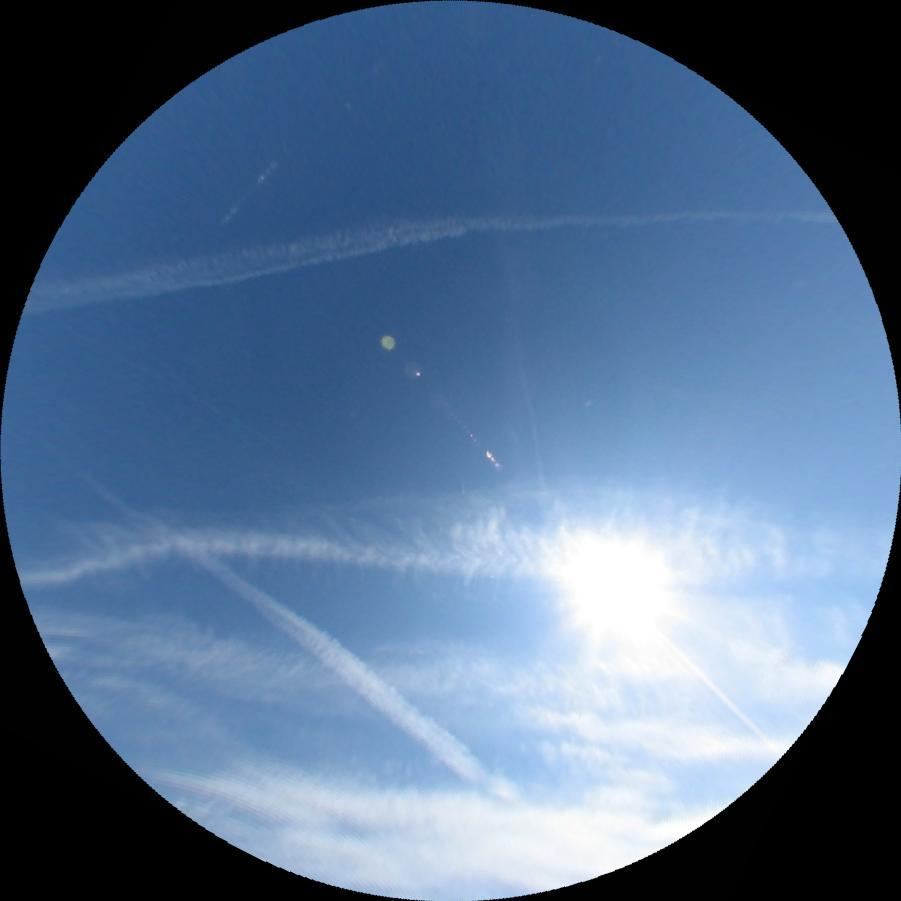contrail veryold: (84, 459, 537, 817), (16, 171, 837, 318), (19, 475, 892, 586)
contrail young: (458, 469, 464, 494)
parasite: (41, 309, 271, 440), (658, 634, 786, 755), (221, 158, 278, 224)
sun: (573, 538, 689, 656)
unknow: (505, 282, 547, 491)
